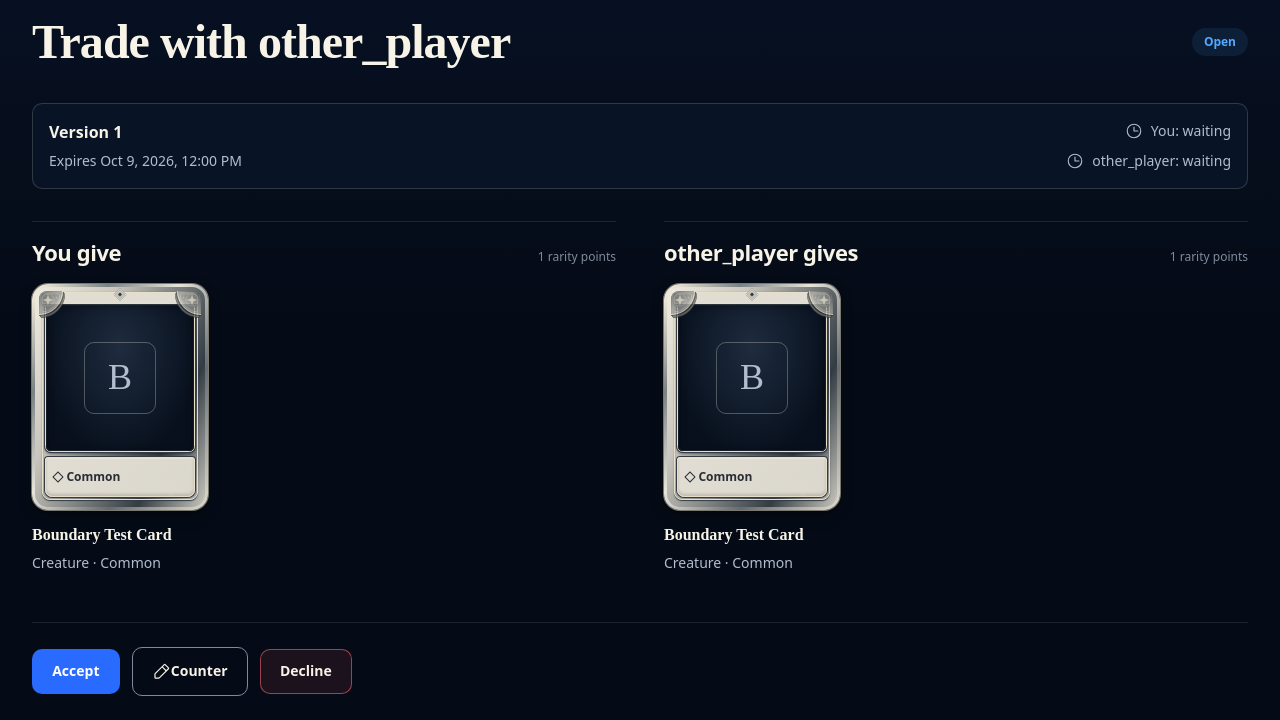
Scenario: trade detail action boundaries › recipient can Decline and sees the server terminal state
(page scrolled)
Click the button "Decline".
click(306, 672)  # box [260, 649, 352, 694]
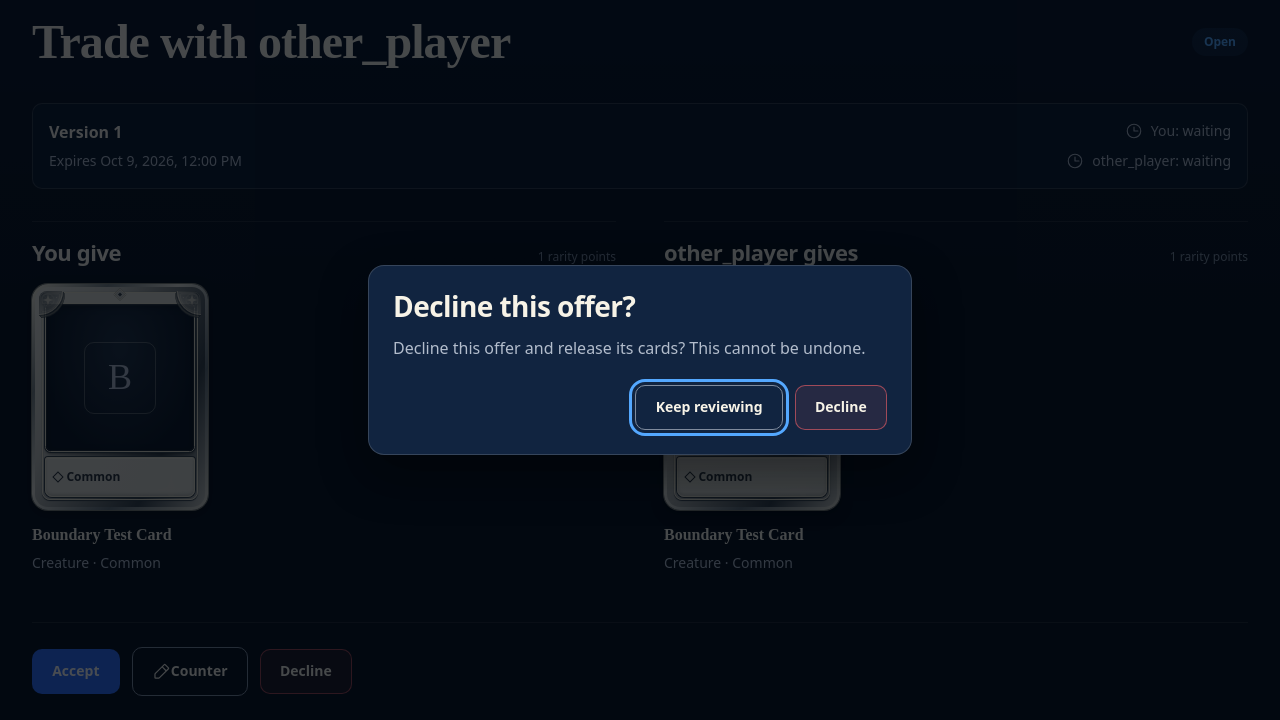
Expected: the dialog shows "Decline this offer", [393, 287, 635, 325]
Click the button "Decline".
click(841, 408)  # box [795, 385, 887, 430]
(page scrolled)
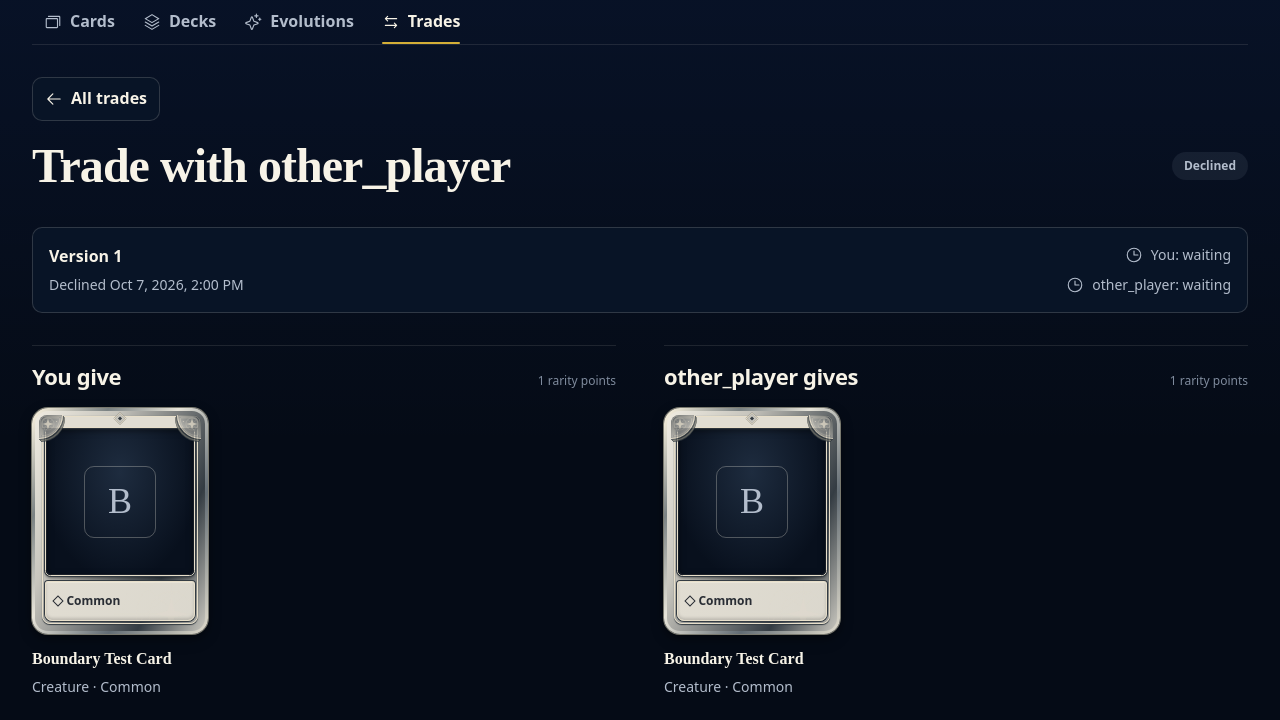
Expected: the text "Declined" is shown, [1172, 152, 1248, 180]
